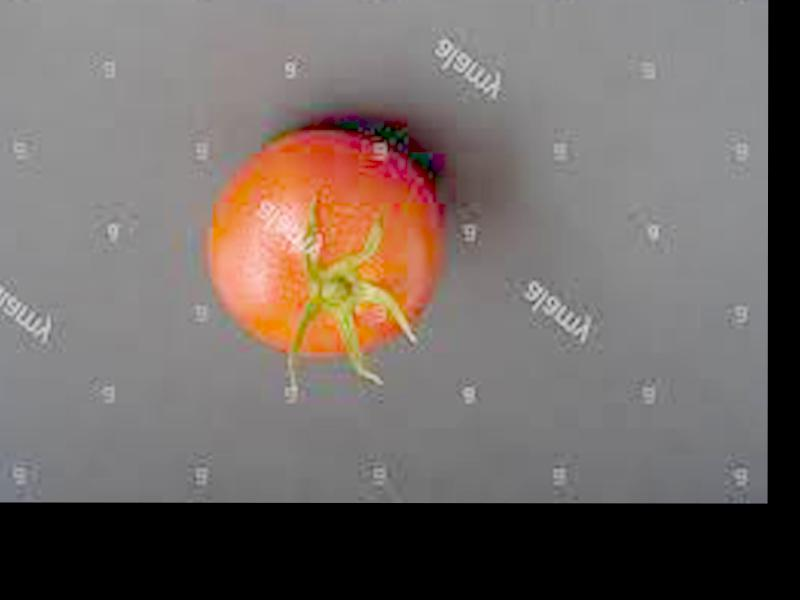Tomato: (206, 139, 444, 358)
